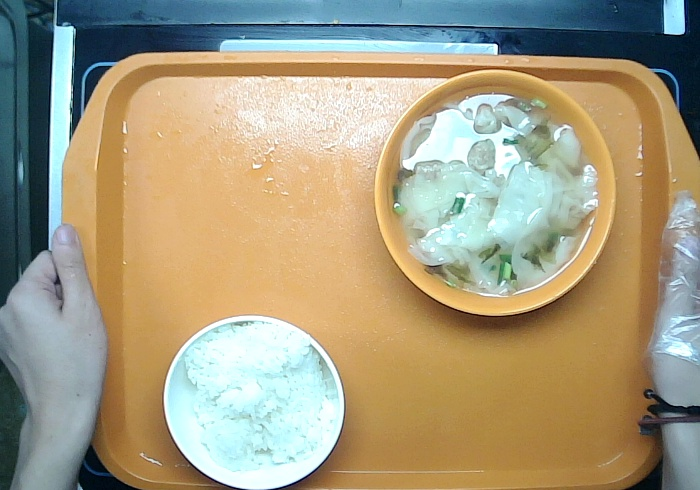NLDX-Fan_Wan: (157, 309, 349, 488)
NLDX-Hun_Tun_Wan: (372, 66, 620, 318)
